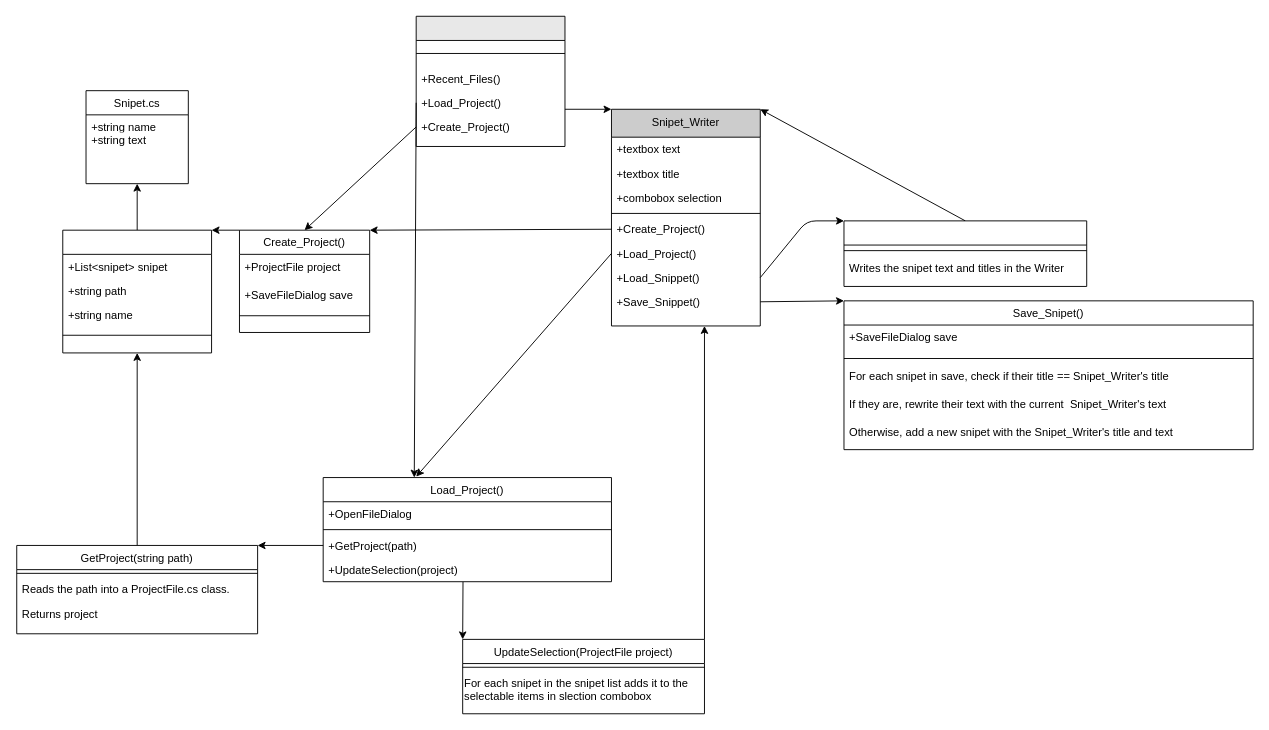
Image size: 1269x730. Some labels were removed from this diagram. The shapes that lost their labels are listed below. From the top down, each one's box as (x1, y1, x2, y2) in pixels, then its label:
(415, 15, 565, 146): Main Menu
(843, 220, 1087, 286): Load_Snipet(int index, ProjectFile project)
(62, 229, 212, 353): ProjectFile.cs
